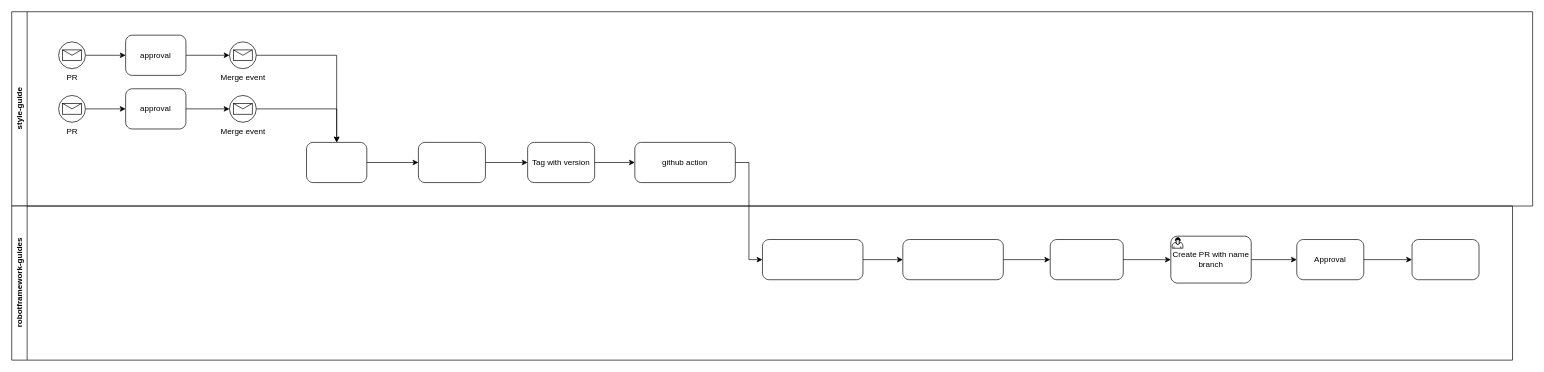
Image size: 1544x372. Some labels were removed from this diagram. The shapes that lost their labels are listed below. From the top down, each one's centre as x and y in pixels, then its label:
(336,162): Merged to Release (x) Branch
(451,162): Merge to main
(812,259): Create branch with name: style-guide-(version)
(952,259): Check for layout in docusaurus
(1086,259): Tech Check npm build npm serve Final check
(1445,259): Merge
